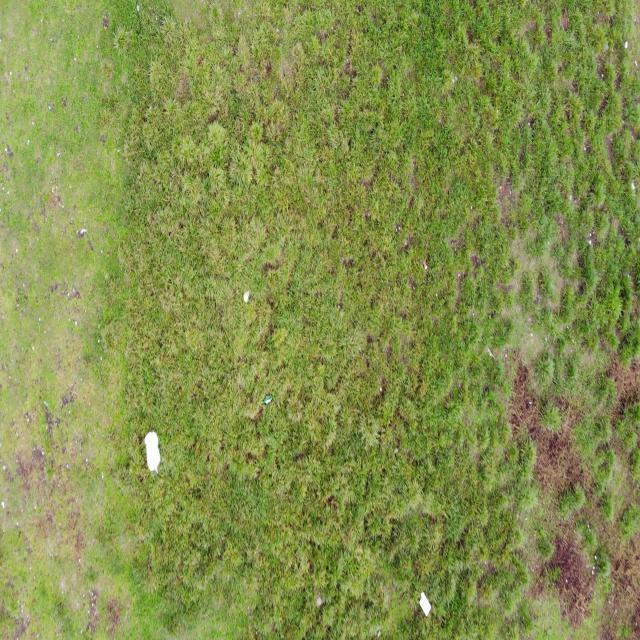rubbish: (144, 429, 160, 471), (418, 589, 432, 615), (243, 289, 250, 306), (262, 393, 273, 403)
